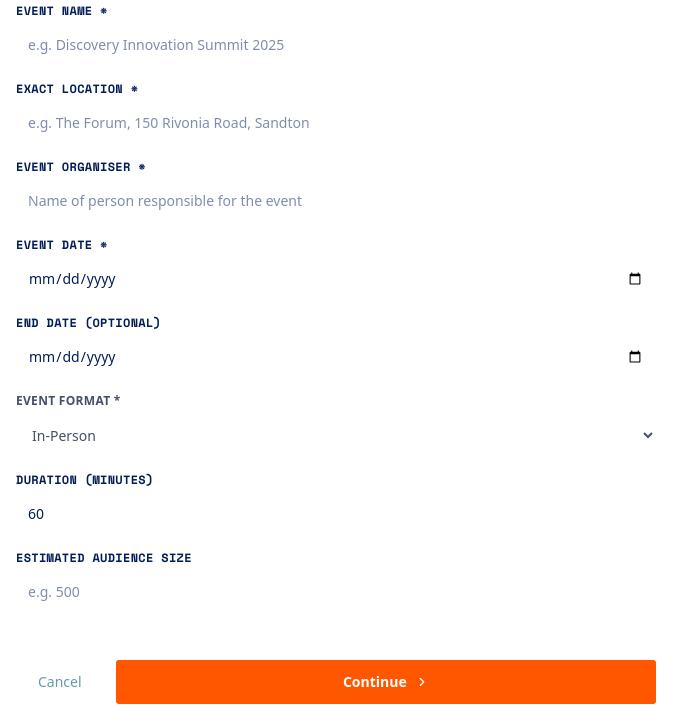
BookingForm › announces validation errors
(page scrolled)
Click the button "Continue" at (386, 682), box [116,660,656,704]
(page scrolled)
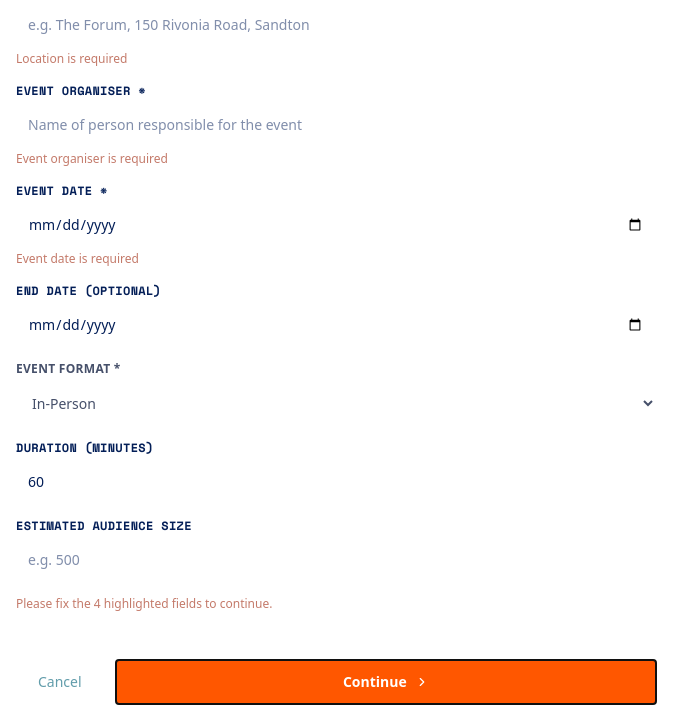
Now the message shows "fix", box [16,595,72,612]
